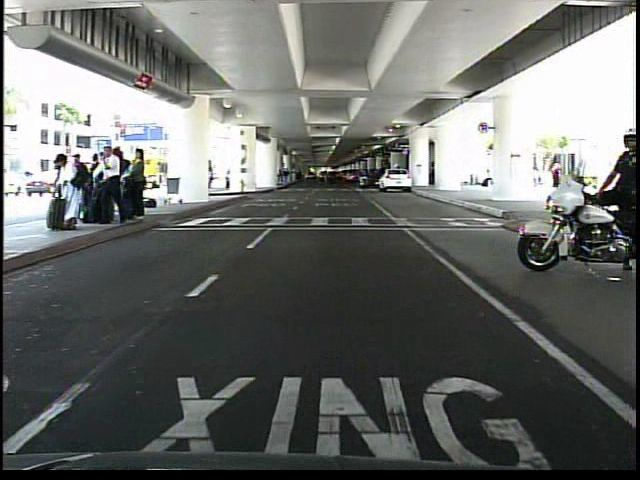person: (601, 127, 640, 272), (480, 162, 493, 194)
